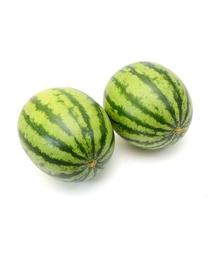watermelon: (16, 86, 115, 185), (102, 60, 191, 149)
